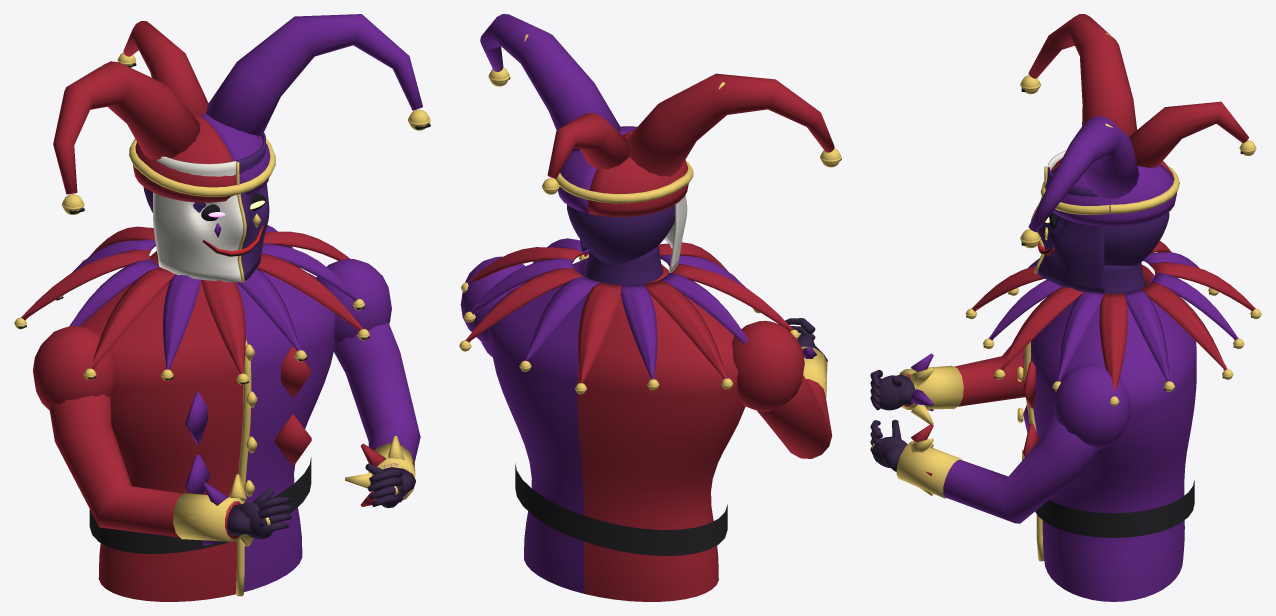
The model's file is mp_char_jester.glb.
The picture shows the model from 3 angles, left to right: view 1: azimuth 30°, elevation 25°; view 2: azimuth 150°, elevation 25°; view 3: azimuth 270°, elevation 25°; orthographic projection. The views are drawn at different scales.
Parts seen in each view (by area): view 1: JesterTunicLeftCrimson, JesterTunicRightViolet, JesterHorn_R, JesterSleeve_L, JesterHorn_L, JesterMaskLeftPorcelain, JesterSleeve_R, JesterShoulderPuff_L, JesterCapBase_L, JesterRearHorn, JesterShoulderPuff_R, JesterWaistSash (+23 smaller); view 2: JesterTunicLeftCrimson, JesterTunicRightViolet, JesterHorn_L, JesterHorn_R, JesterWaistSash, JesterShoulderPuff_L, SculptedHead, JesterSleeve_L, JesterCapBase_L, JesterRearHorn, JesterRuffPoint_10, JesterRuffPoint_8 (+15 smaller); view 3: JesterTunicRightViolet, JesterSleeve_R, JesterHorn_L, JesterHorn_R, JesterShoulderPuff_R, JesterMaskRightLacquer, JesterWaistSash, JesterRearHorn, JesterCapBase_R, JesterSleeve_L, SculptedHead, JesterRuffPoint_0 (+14 smaller).
Part boxes in pixels (x1,y1,x2,y2): JesterTunicLeftCrimson: (80, 251, 243, 601); JesterTunicRightViolet: (236, 271, 335, 591); JesterHorn_R: (205, 14, 422, 136); JesterSleeve_L: (49, 394, 241, 538); JesterHorn_L: (53, 61, 200, 194); JesterMaskLeftPorcelain: (153, 156, 243, 282); JesterSleeve_R: (333, 322, 420, 496); JesterShoulderPuff_L: (33, 326, 116, 409); JesterCapBase_L: (133, 116, 236, 202); JesterRearHorn: (123, 21, 208, 116); JesterShoulderPuff_R: (316, 258, 391, 345); JesterWaistSash: (89, 457, 311, 553); JesterTunicLeftCrimson: (577, 264, 745, 601); JesterTunicRightViolet: (488, 257, 588, 593); JesterHorn_L: (627, 73, 834, 176); JesterHorn_R: (480, 14, 620, 151); JesterWaistSash: (515, 463, 727, 555); JesterShoulderPuff_L: (732, 320, 804, 411); SculptedHead: (567, 204, 674, 263); JesterSleeve_L: (757, 375, 832, 458); JesterCapBase_L: (588, 129, 688, 217); JesterRearHorn: (547, 113, 629, 178); JesterRuffPoint_10: (578, 282, 621, 383); JesterRuffPoint_8: (643, 279, 727, 378); JesterTunicRightViolet: (1030, 276, 1196, 601); JesterSleeve_R: (943, 414, 1099, 523); JesterHorn_L: (1028, 14, 1136, 136); JesterHorn_R: (1028, 116, 1139, 232); JesterShoulderPuff_R: (1053, 363, 1130, 448); JesterMaskRightLacquer: (1037, 167, 1104, 293); JesterWaistSash: (1035, 480, 1194, 537); JesterRearHorn: (1129, 101, 1248, 167); JesterCapBase_R: (1045, 164, 1176, 226); JesterSleeve_L: (902, 345, 1025, 406); SculptedHead: (1060, 212, 1169, 265); JesterRuffPoint_0: (1099, 293, 1127, 395).
Size of the model in its own units: 0.676 by 0.9375 by 0.6875.
